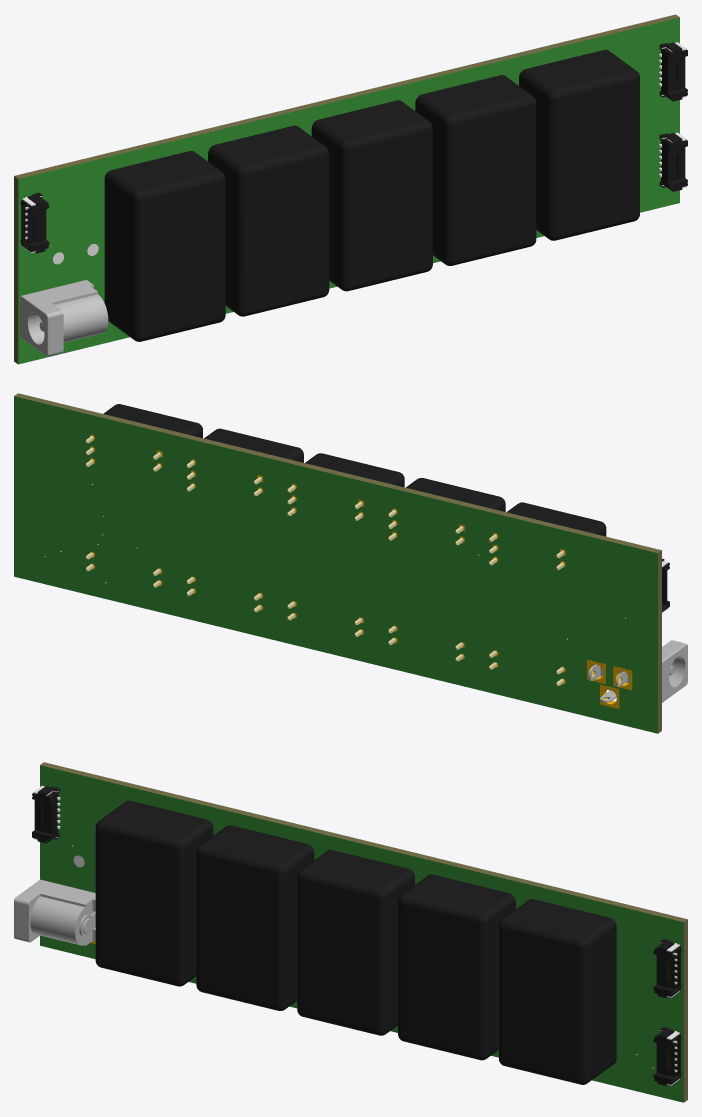
File: lighting_power_brd.fbx
3 views of the same model, one above another, from view 1: azimuth 30°, elevation 25°; view 2: azimuth 150°, elevation 25°; view 3: azimuth 330°, elevation 25° (orthographic). The views are drawn at different scales.
Visible parts, largest first — view 1: Body1 (×7), Body15 (×3), Board; view 2: Body1 (×7), Board, Body2; view 3: Body1 (×7), Body15 (×3), Board.
Part boxes in pixels (x1=…): Body1 (×7): x1=18, y1=17, x2=679, y2=364; Body15 (×3): x1=20, y1=42, x2=687, y2=253; Board: x1=14, y1=14, x2=679, y2=363; Body1 (×7): x1=14, y1=396, x2=687, y2=733; Board: x1=14, y1=393, x2=661, y2=733; Body2: x1=89, y1=434, x2=632, y2=708; Body1 (×7): x1=14, y1=765, x2=683, y2=1102; Body15 (×3): x1=32, y1=786, x2=681, y2=1085; Board: x1=40, y1=762, x2=687, y2=1102.
Bounding box in the file's own units: 14.6 × 3.91 × 1.63.
